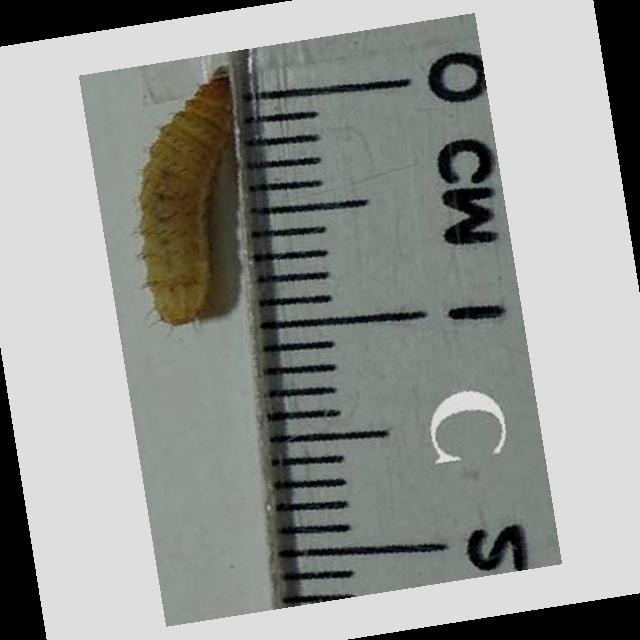Maggot: (142, 62, 237, 325)
